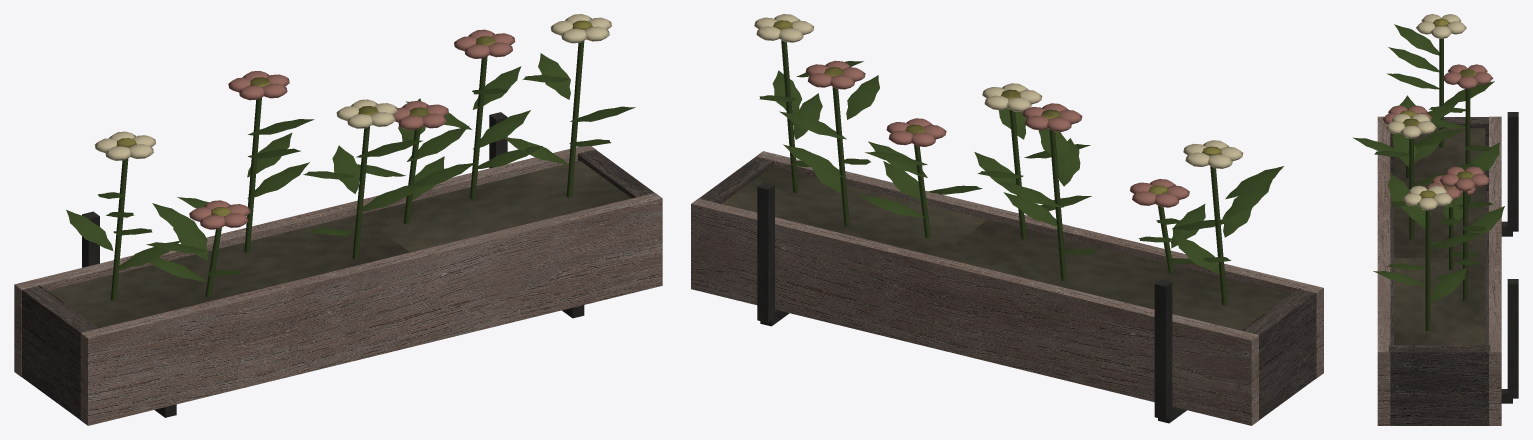
The model's file is FlowerBox.gltf.
3 views of the same model, side by side, from view 1: azimuth 30°, elevation 25°; view 2: azimuth 150°, elevation 25°; view 3: azimuth 270°, elevation 25° (orthographic). The views are drawn at different scales.
Visible parts, largest first — view 1: FlowerBox; view 2: FlowerBox; view 3: FlowerBox.
Part boxes in pixels (bbox=[...]): FlowerBox: bbox=[14, 14, 662, 425]; FlowerBox: bbox=[691, 14, 1323, 425]; FlowerBox: bbox=[1353, 14, 1518, 425].
Size of the model in its own units: 1.1 by 0.4851 by 0.3283.
9 materials, 7 textured.
